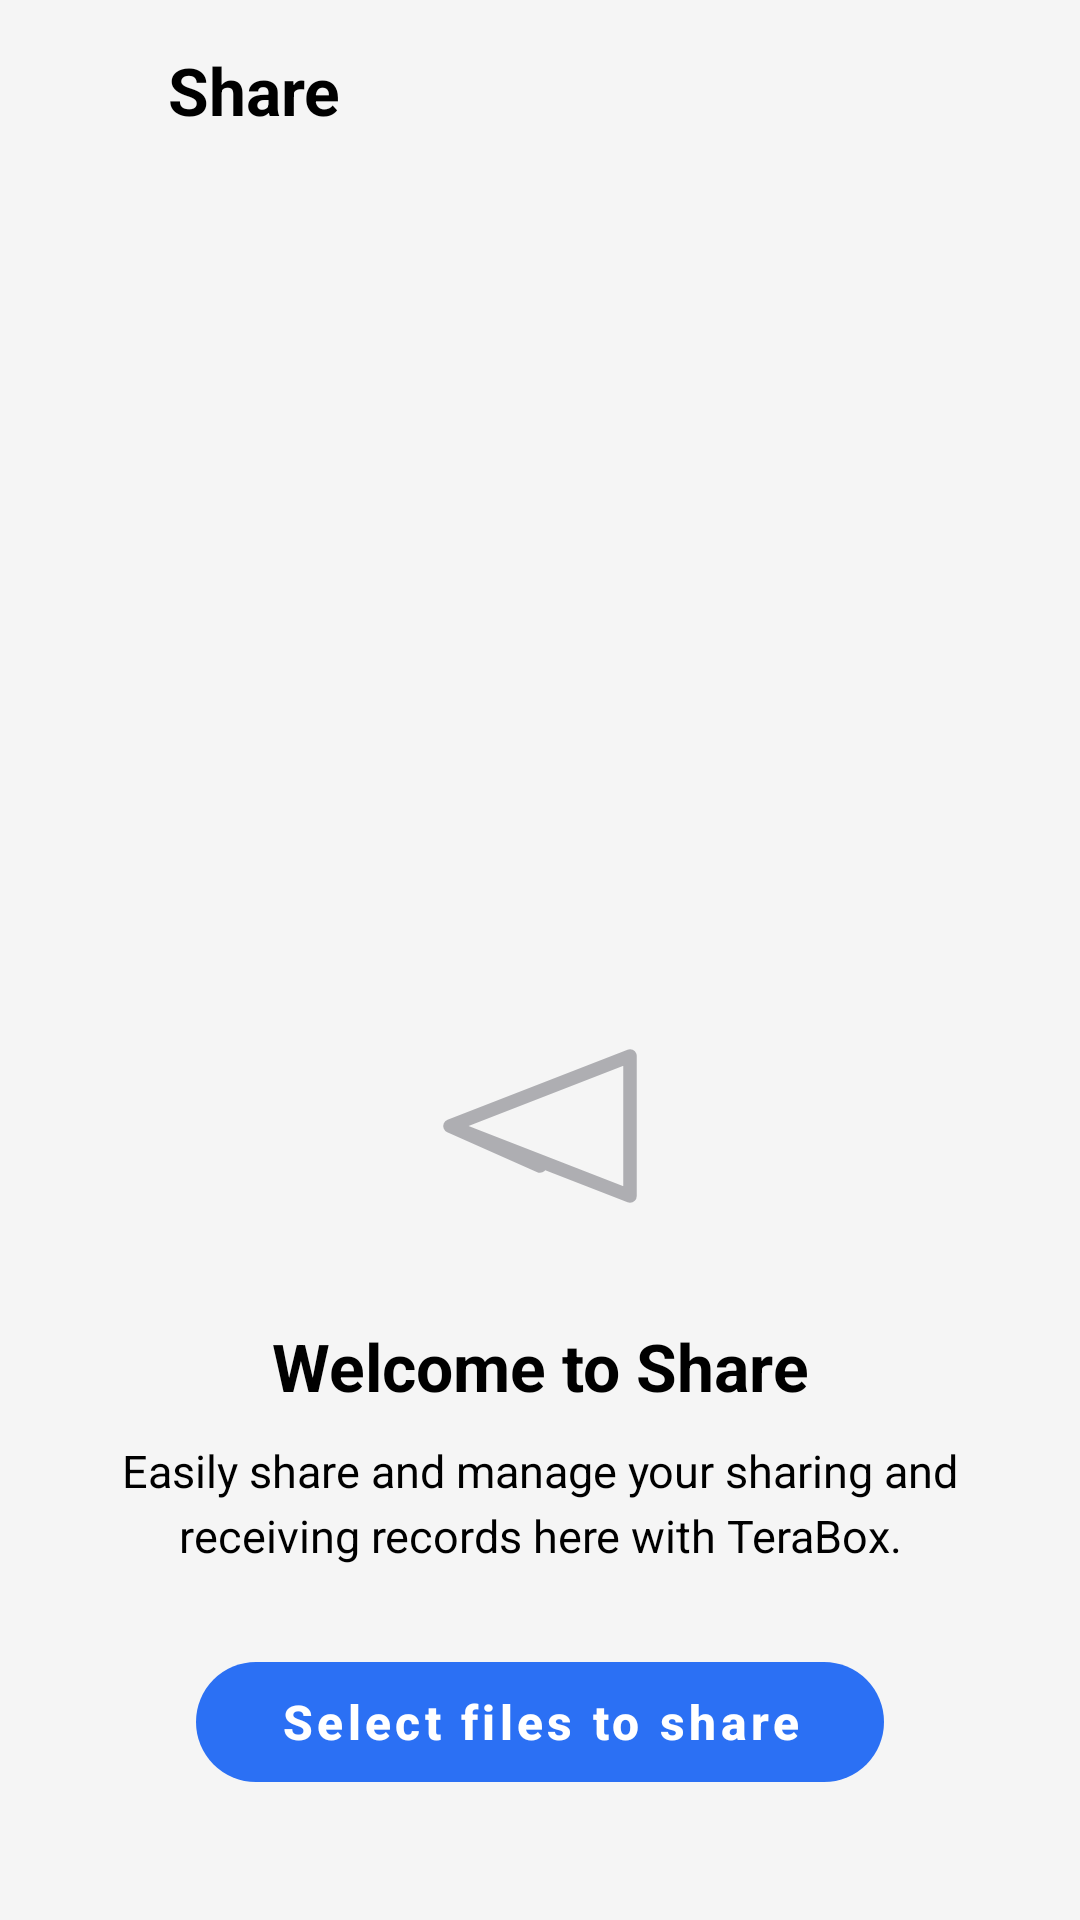

Where to tap for icons on this 1080px×1920px app screen, as (x,y):
share empty plane: (540,1126)
